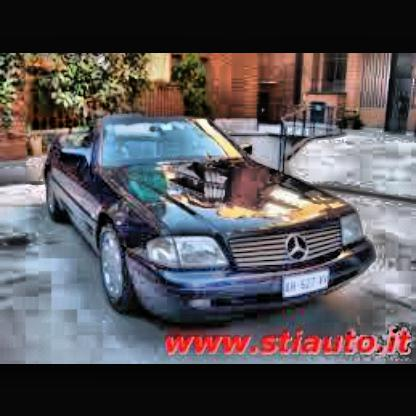Mercedes-Benz 300-Class Convertible 1993: (41, 105, 379, 342)
